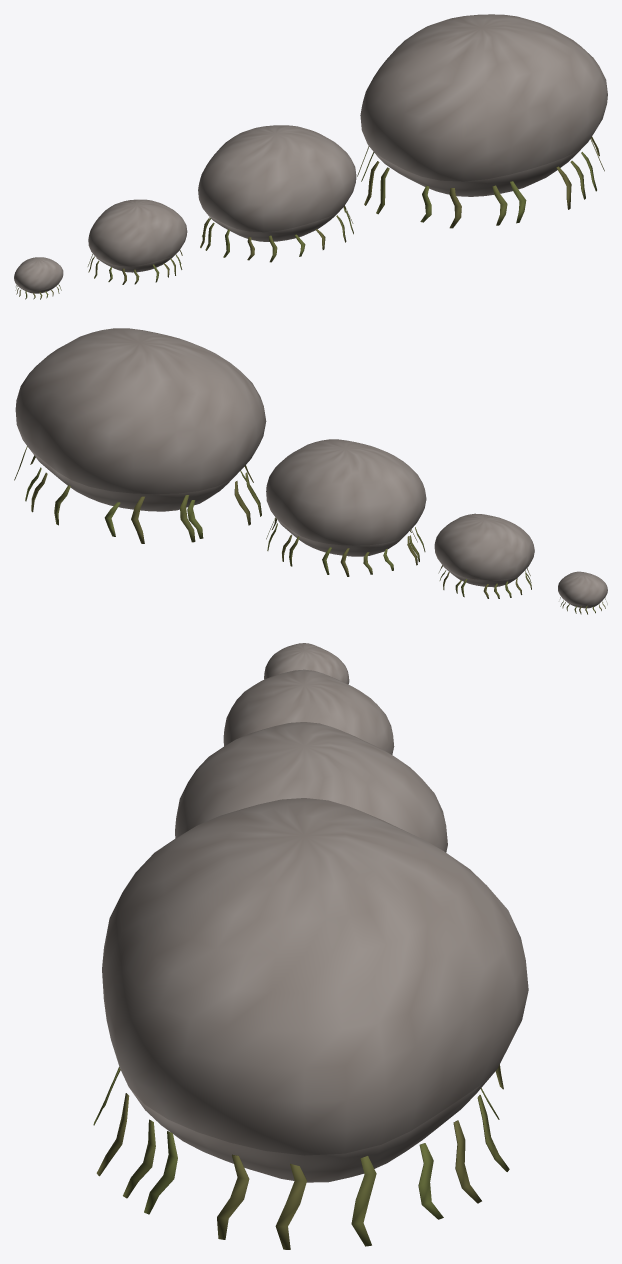
The model's file is shore_rocks.glb.
3 views of the same model, one above another, from view 1: azimuth 30°, elevation 25°; view 2: azimuth 150°, elevation 25°; view 3: azimuth 270°, elevation 25° (orthographic). The views are drawn at different scales.
Visible parts, largest first — view 1: rock_4, rock_3, rock_2, rock_1; view 2: rock_4, rock_3, rock_2, rock_1; view 3: rock_4, rock_3, rock_2, rock_1.
Boxes of the visible parts, left/top/right/bottom form: rock_4: left=357, top=14, right=607, bottom=228; rock_3: left=198, top=125, right=356, bottom=262; rock_2: left=87, top=199, right=187, bottom=284; rock_1: left=14, top=257, right=63, bottom=299; rock_4: left=14, top=328, right=266, bottom=543; rock_3: left=266, top=439, right=426, bottom=576; rock_2: left=434, top=513, right=534, bottom=598; rock_1: left=558, top=571, right=607, bottom=614; rock_4: left=93, top=798, right=528, bottom=1249; rock_3: left=175, top=722, right=447, bottom=852; rock_2: left=223, top=669, right=394, bottom=754; rock_1: left=264, top=643, right=349, bottom=684.
Bounding box in the file's own units: 6.48 × 1.65 × 2.11.
